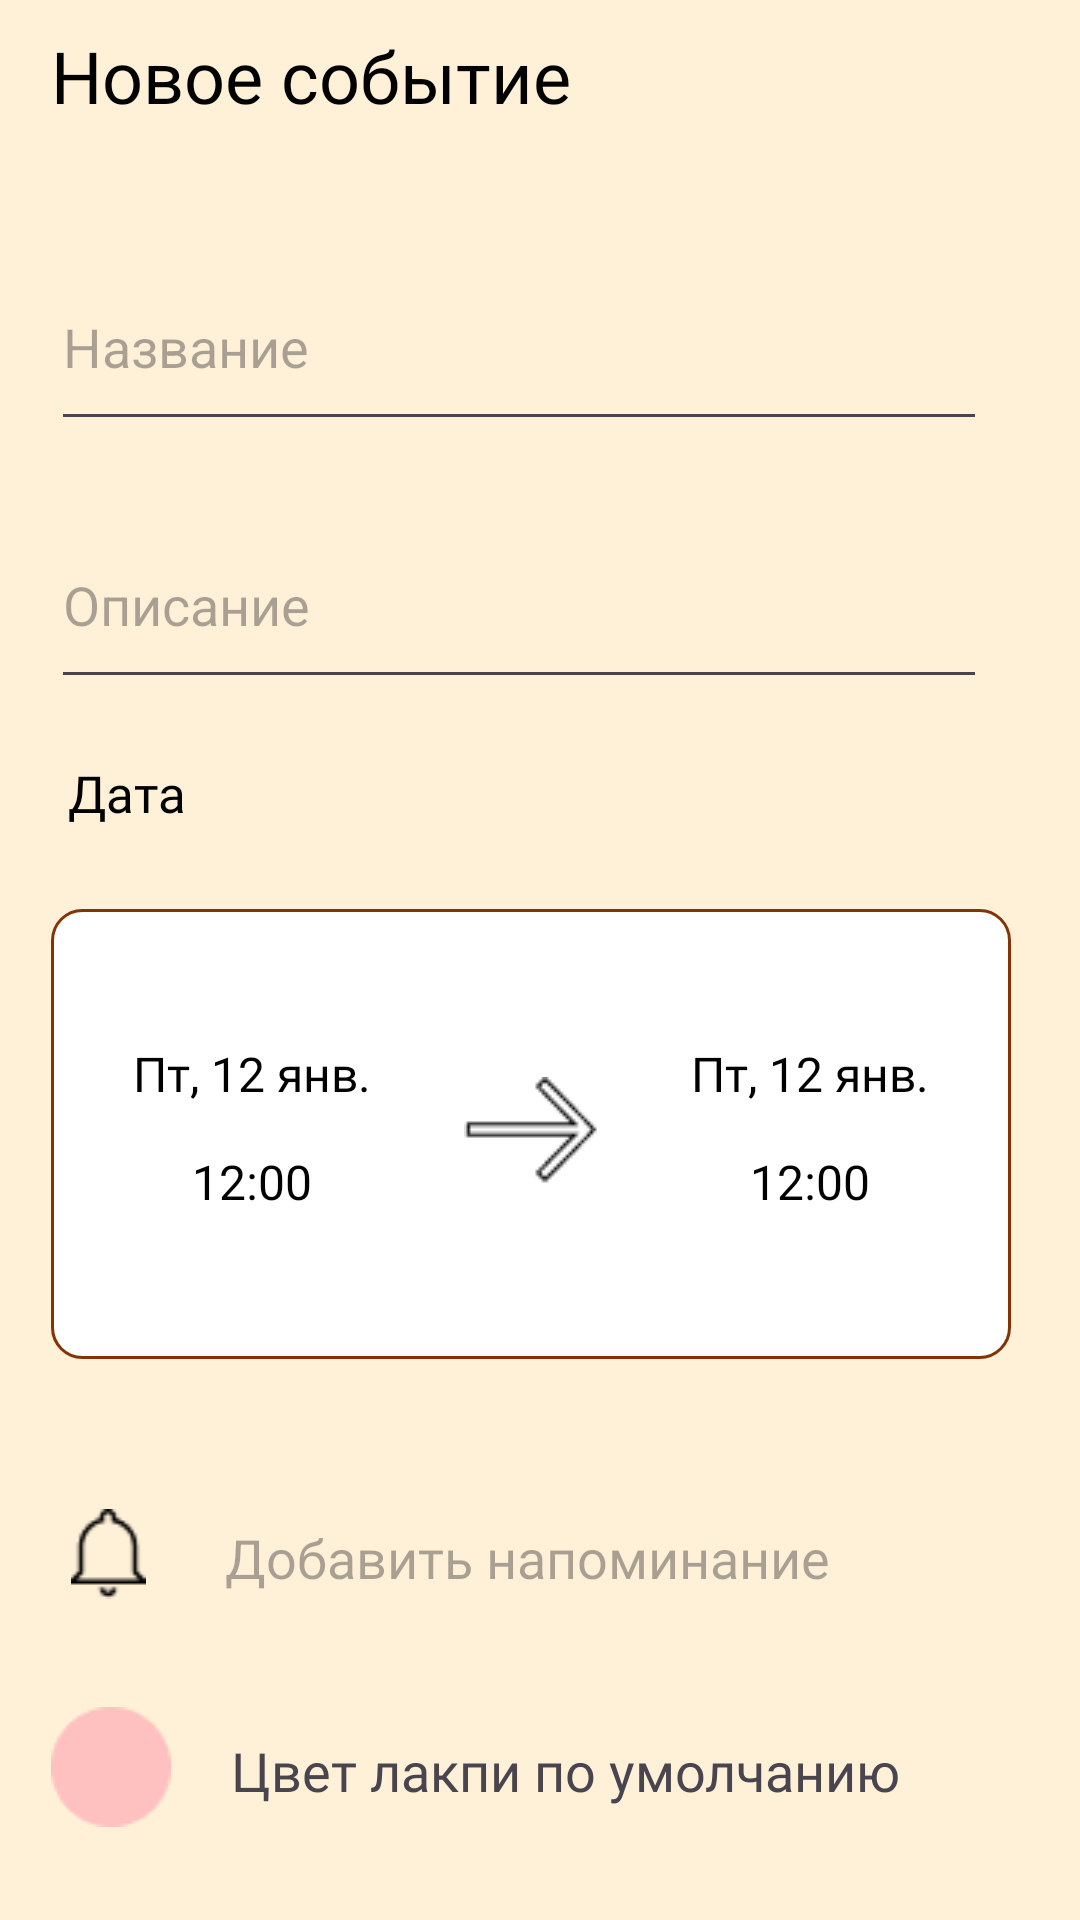

Icon bounding boxes for this 1080px x 1920px phone screenshot, format {"left": x1, "top": y1, "right": x2, "bottom": y2}:
arrow right: {"left": 464, "top": 1077, "right": 597, "bottom": 1183}
bell: {"left": 71, "top": 1509, "right": 146, "bottom": 1599}
